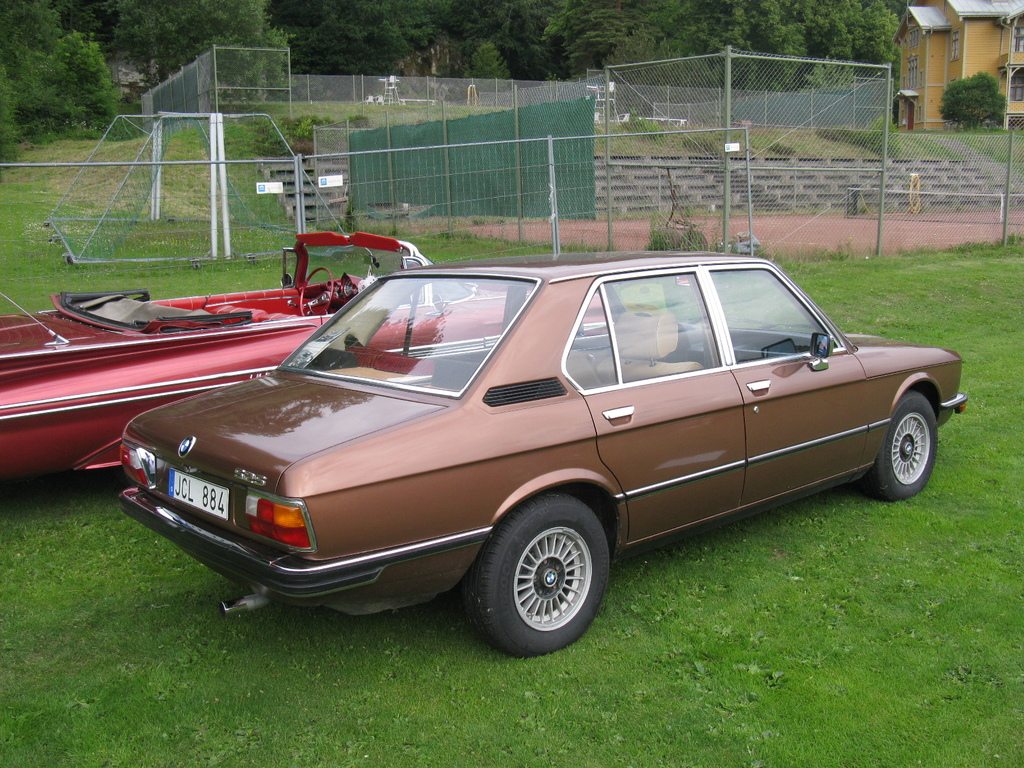Tree: (0, 0, 905, 176)
